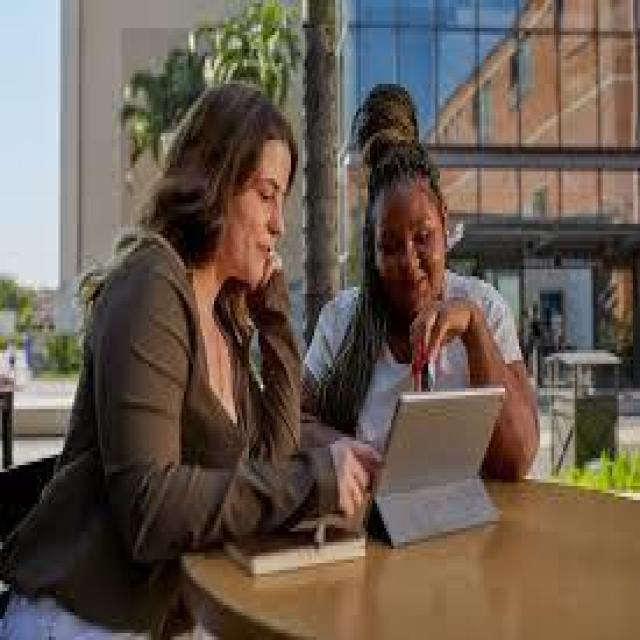person: (33, 59, 321, 636), (294, 53, 536, 521)
